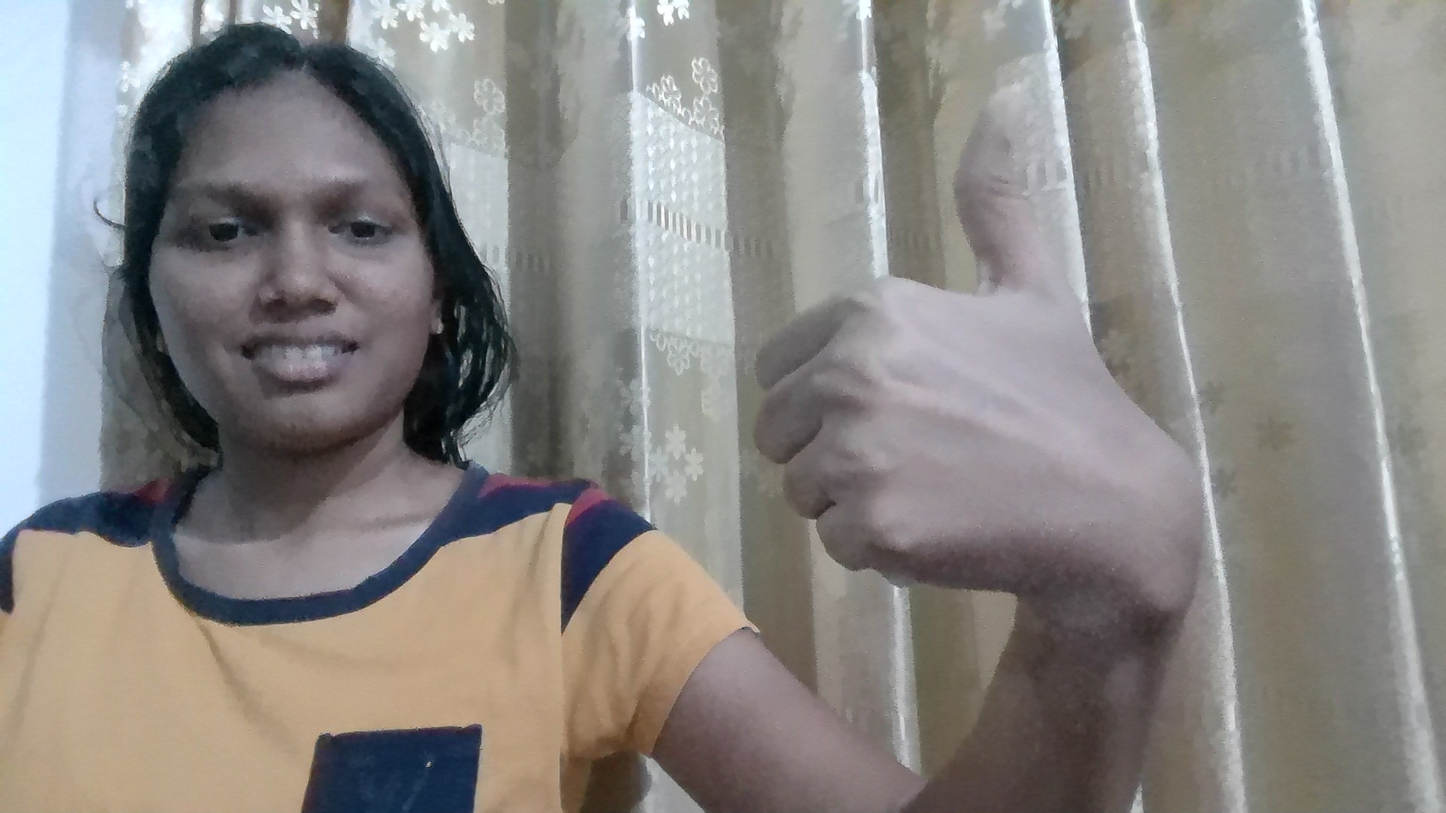Thumbs Up: (699, 41, 1216, 732)
